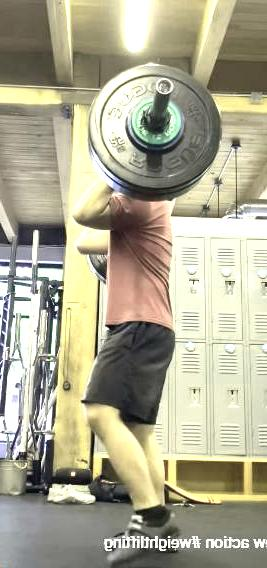Barbell: (152, 78, 172, 97)
